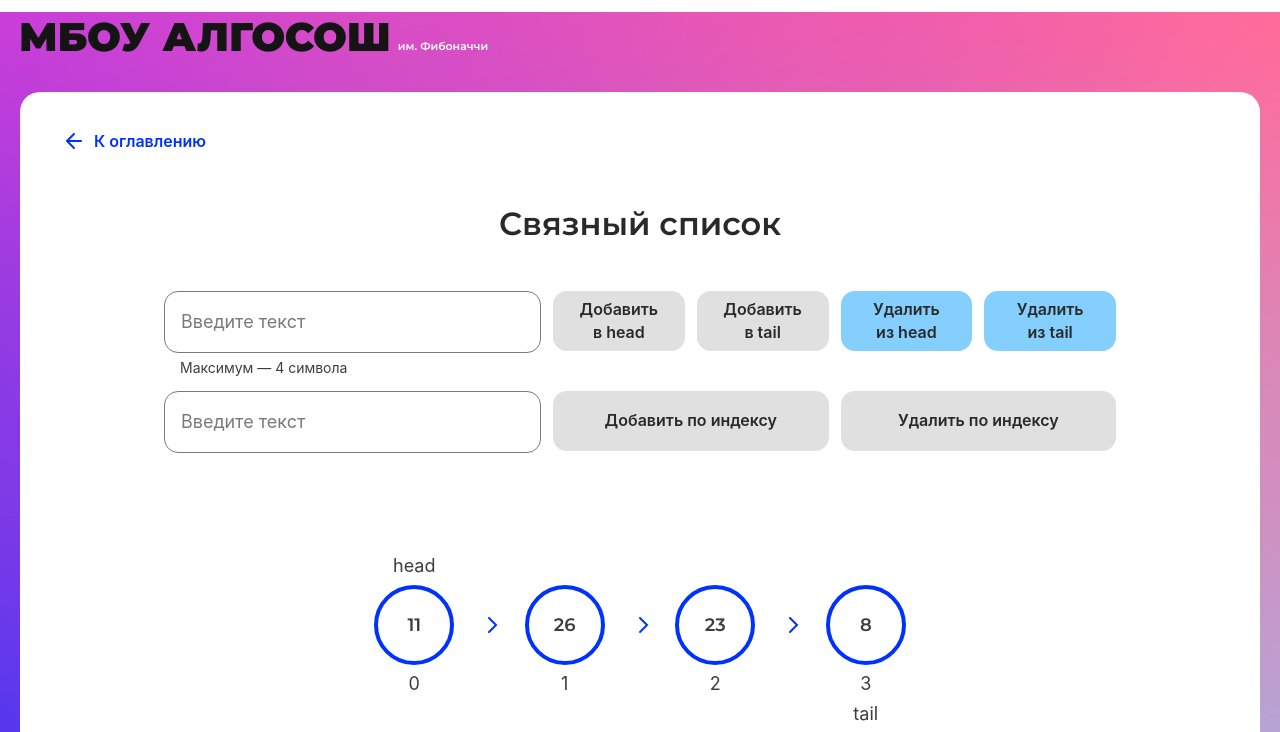
Scenario: Проверка работы связного списка: › Удаление элемента по индексу
Type "2" into the number field with test id "index" at point(353, 422), box [164,391,541,453]
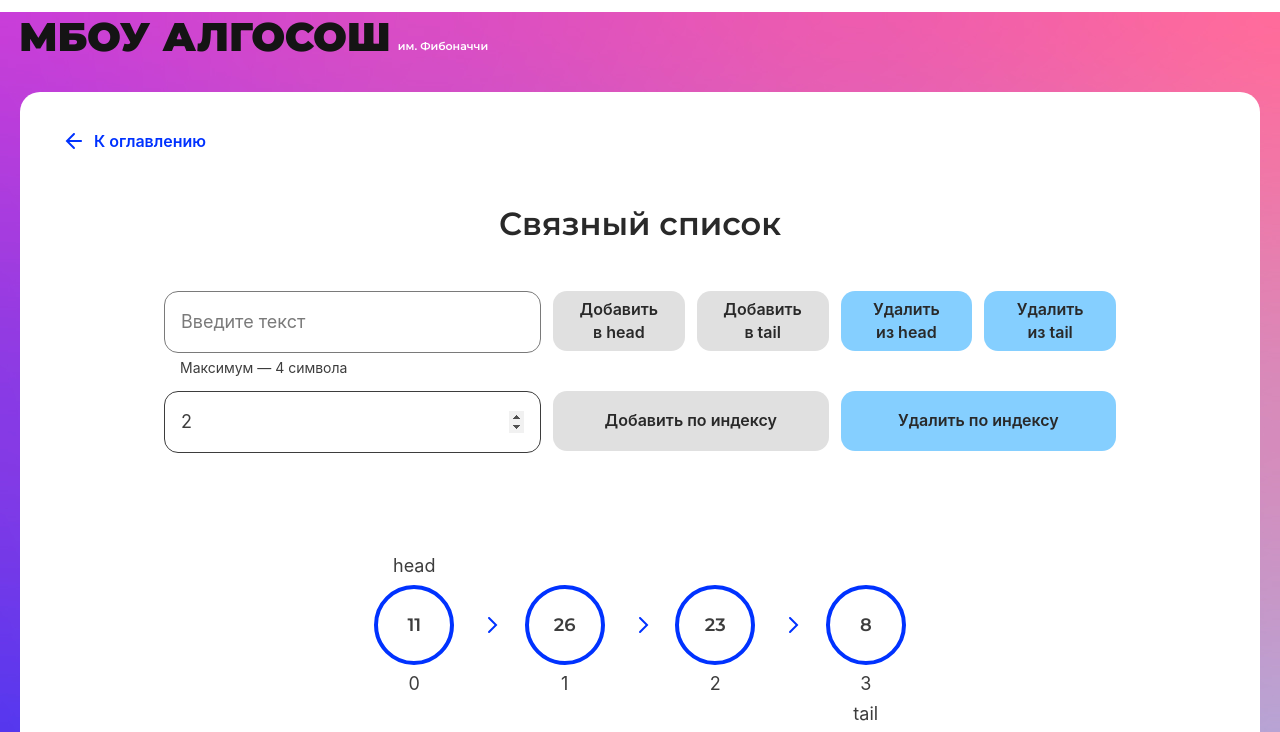
Expected: the element with test id "delByIndex" is enabled
Click the button with test id "delByIndex" at point(979, 421), box [841,391,1117,451]
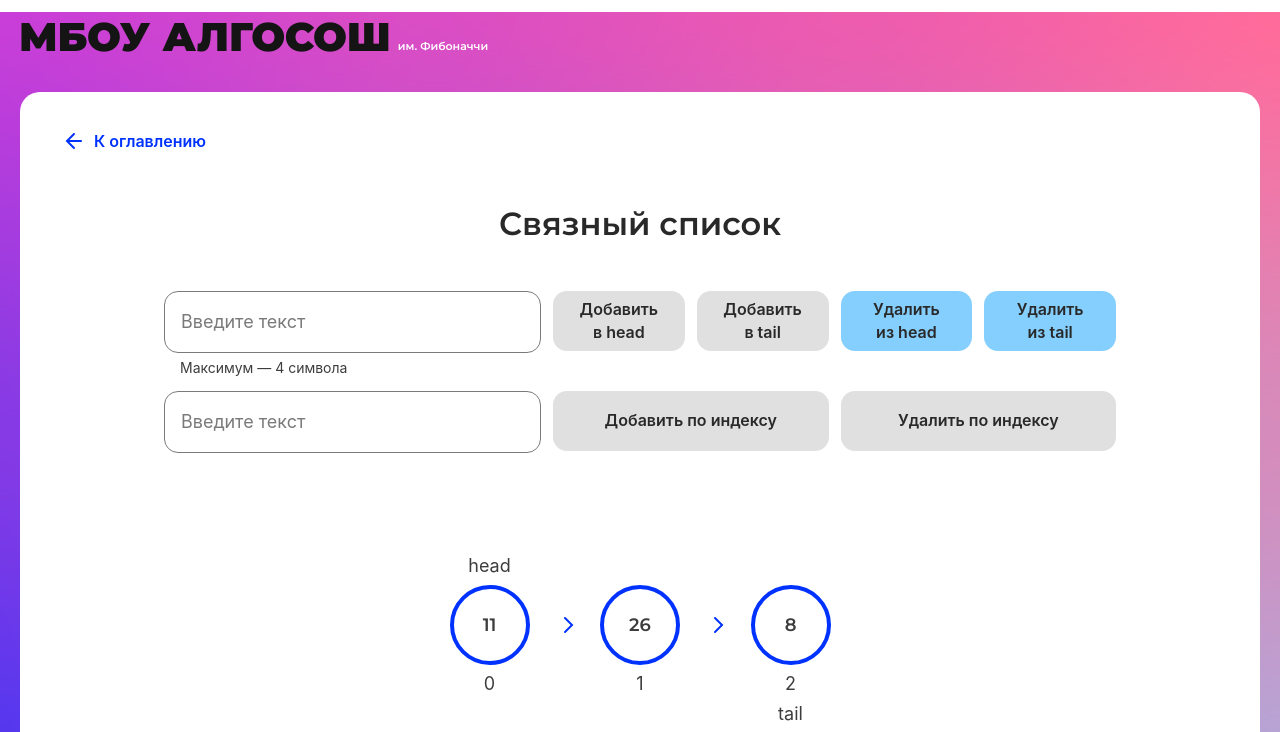
Result: the element with test id "circle" reads "8" at [751,585,831,665]
Result: the number of elements with test id "circle" is 3 at [450,585,530,665]; [600,585,680,665]; [750,585,830,665]
